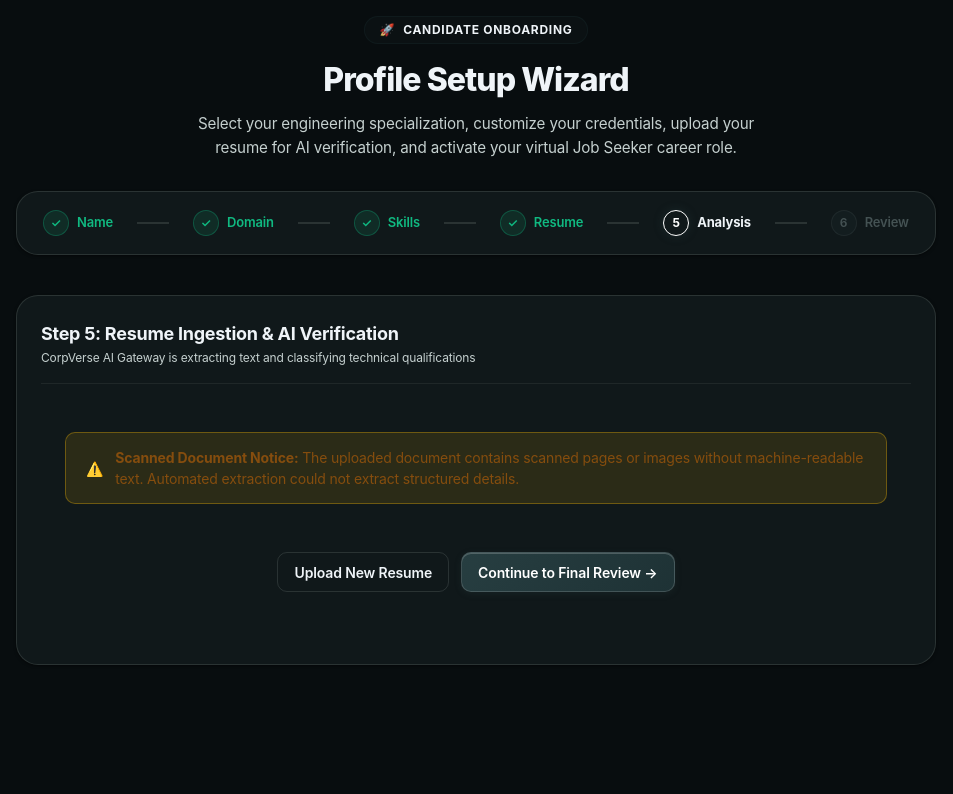
it: Onboarding Guided Flow Suite › handles SCANNED_UNREADABLE notice and allows manual review progression
Expected: the text "Scanned Document Notice:" is shown, [115,449,298,466]
Step 1. Click the button "Continue to Final Review →" → (568, 572), box [461,552,674,592]
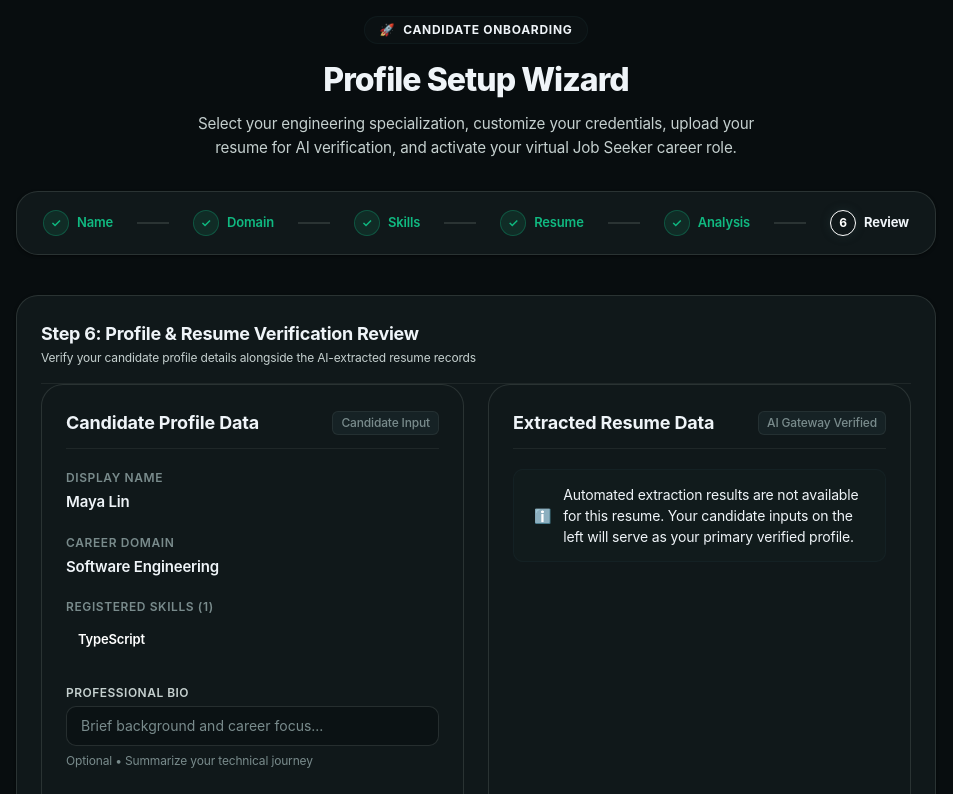
Expected: the heading "Step 6: Profile & Resume Verification Review" is shown, [41,320,476,347]
Expected: the text "Automated extraction results are not available" is shown, [563,486,858,545]
